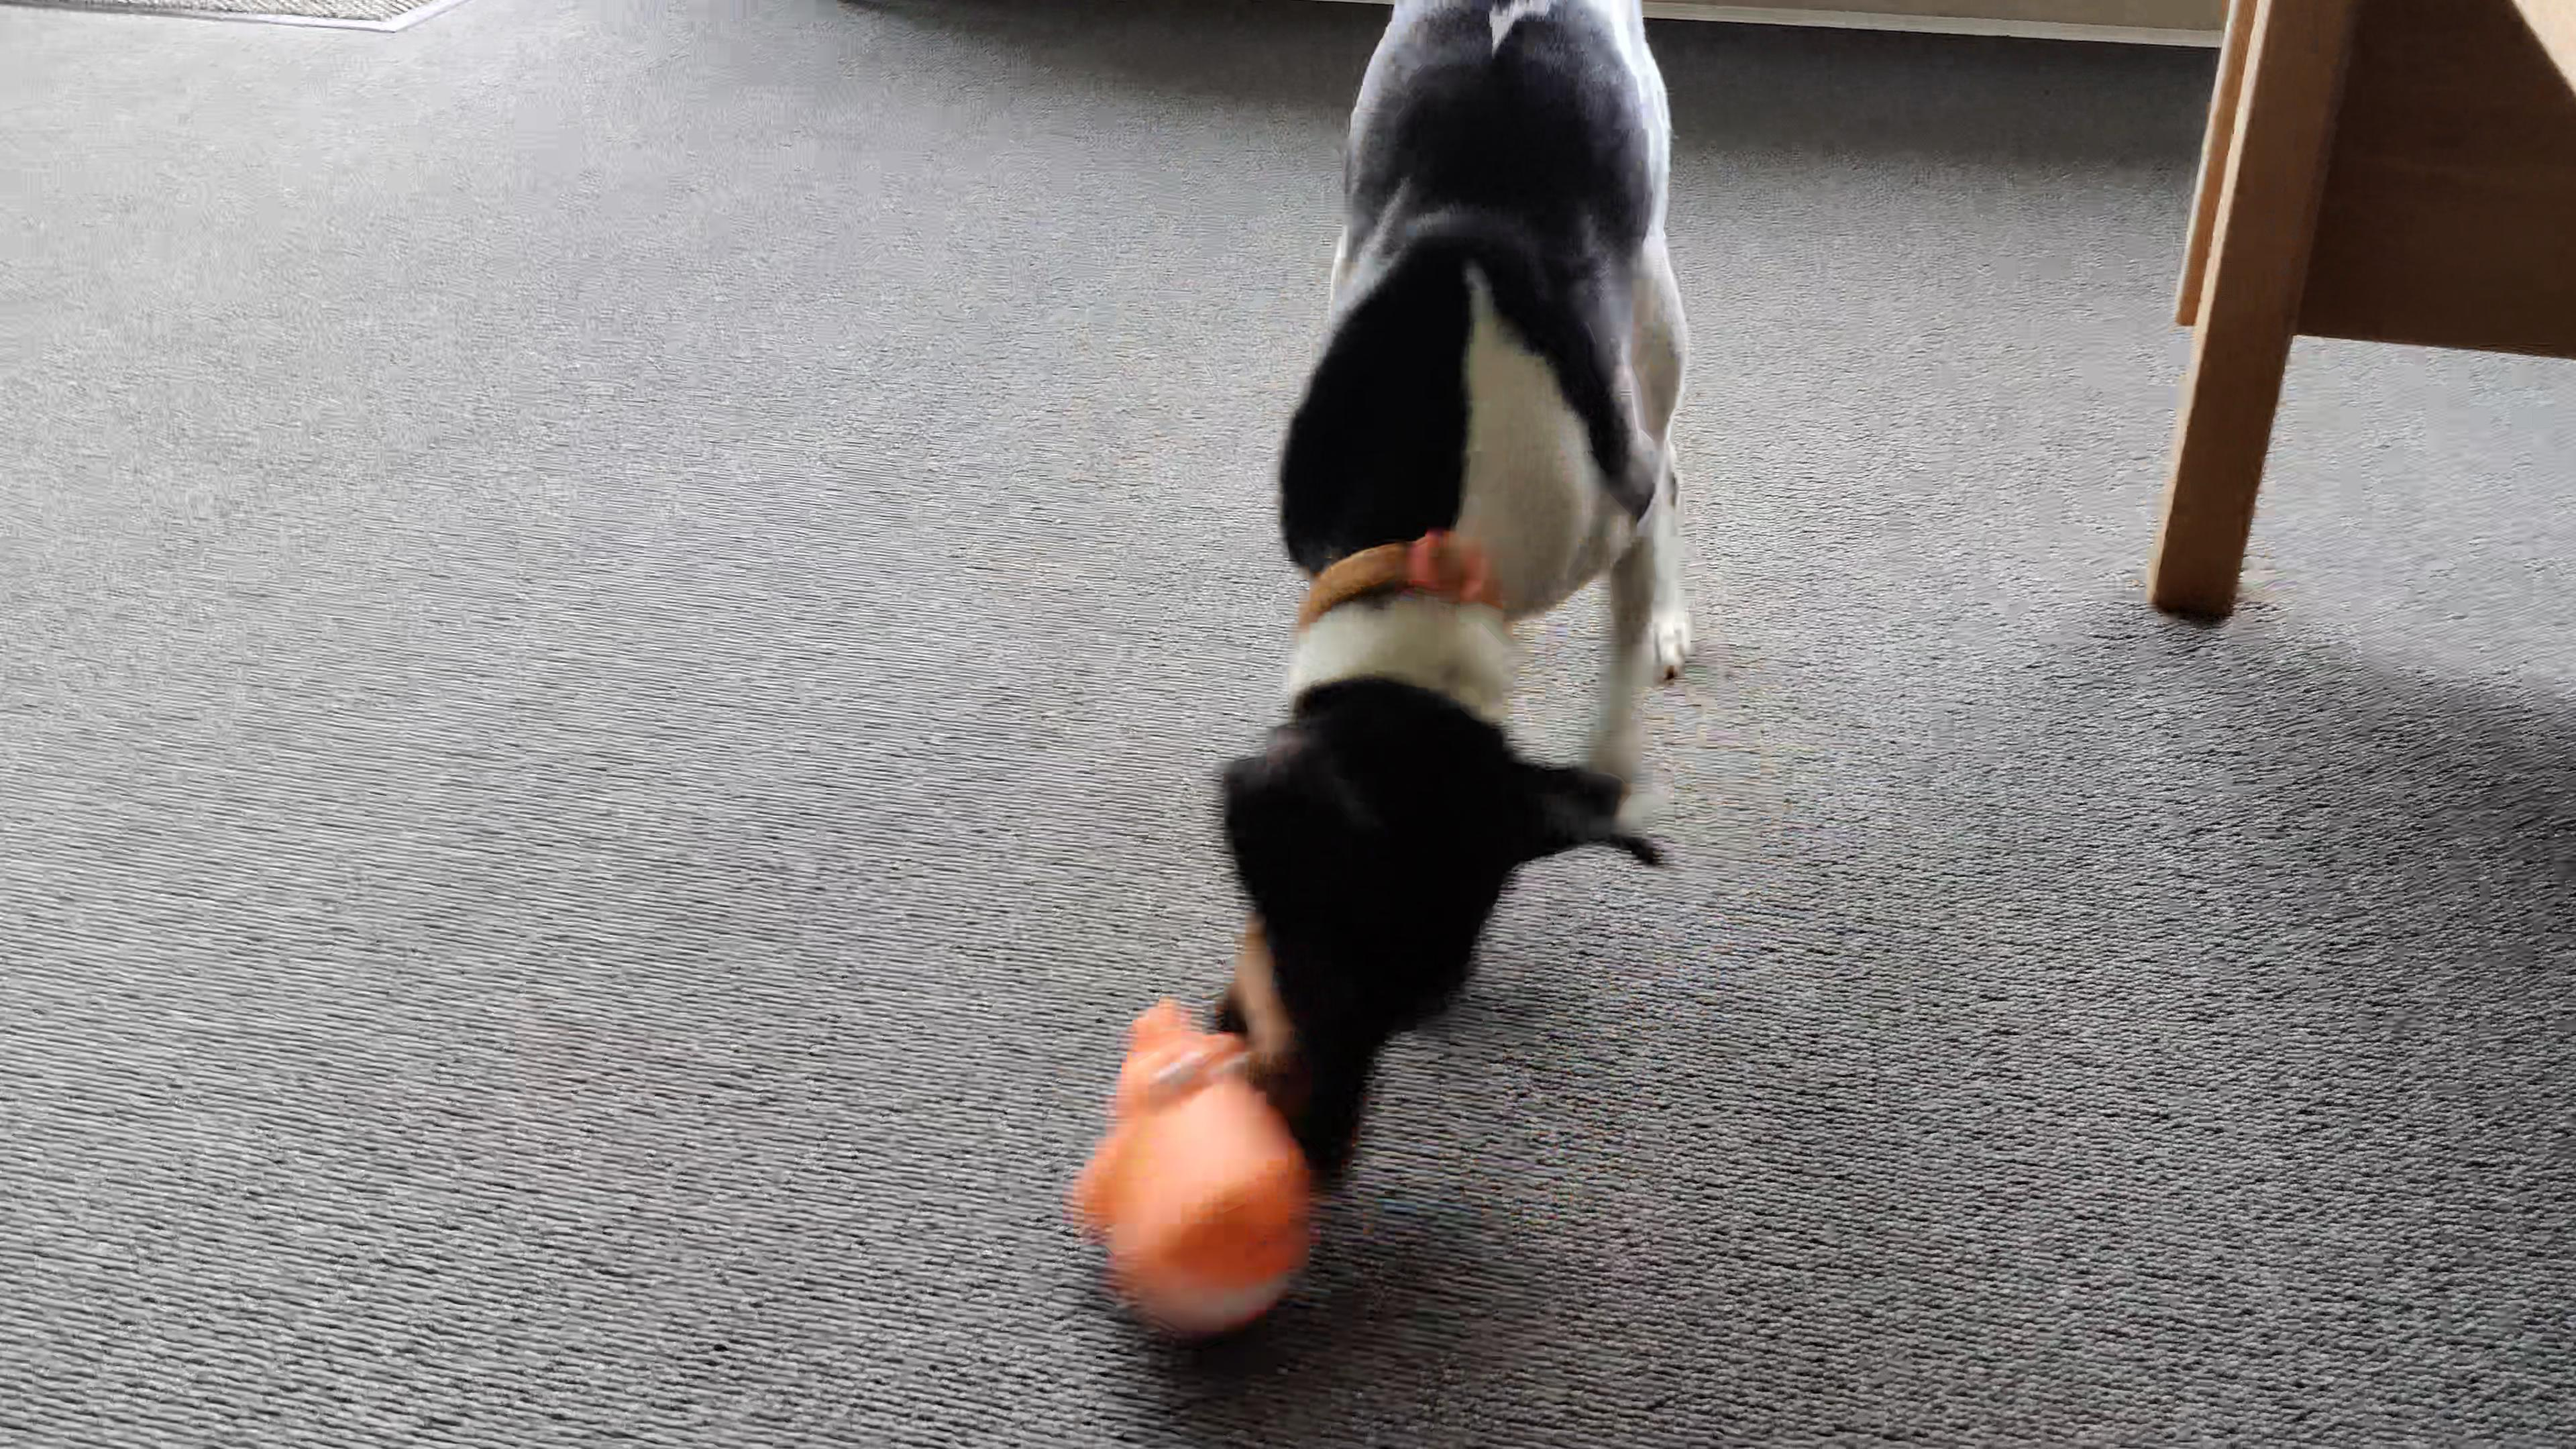Dog: (1166, 0, 1762, 1224)
